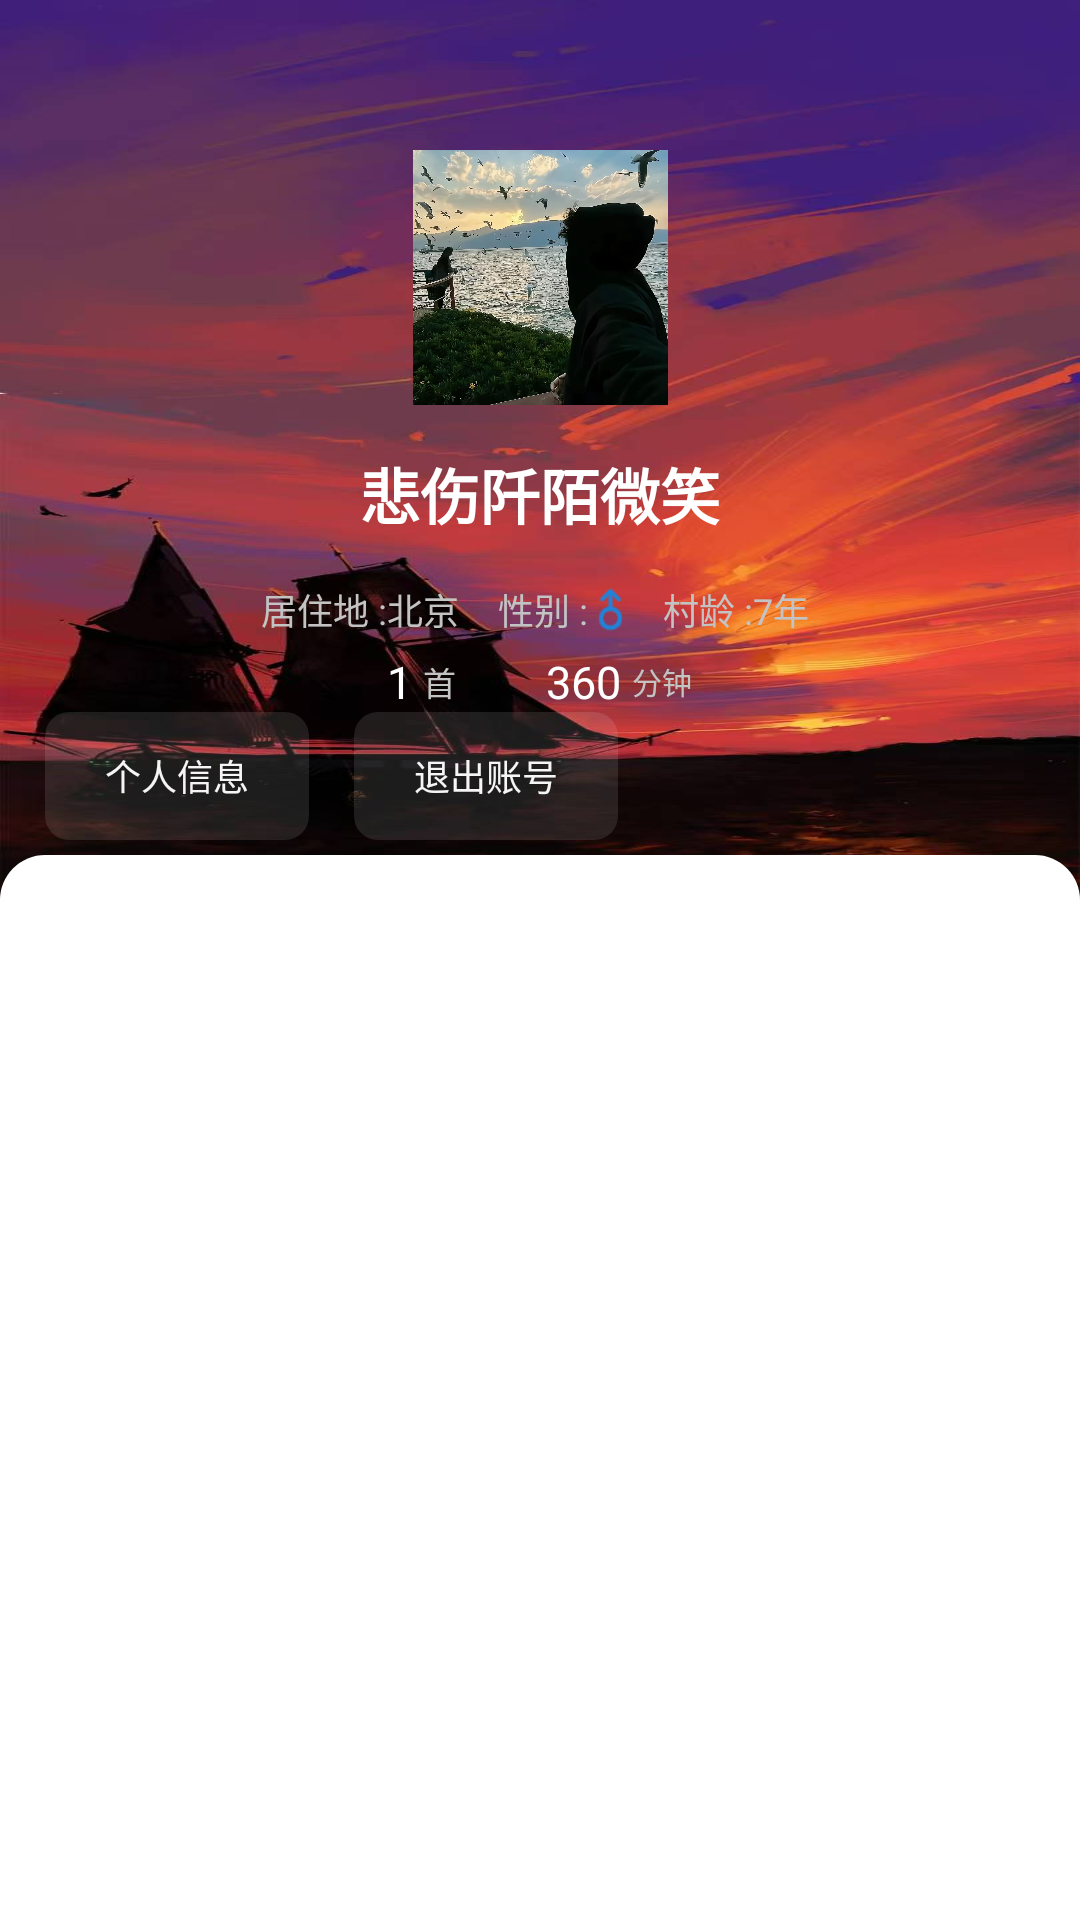

Icons on this 1080 x 1920 Android screen, each with the point to tap as (x=x, y=y):
sex man: (x=610, y=609)
